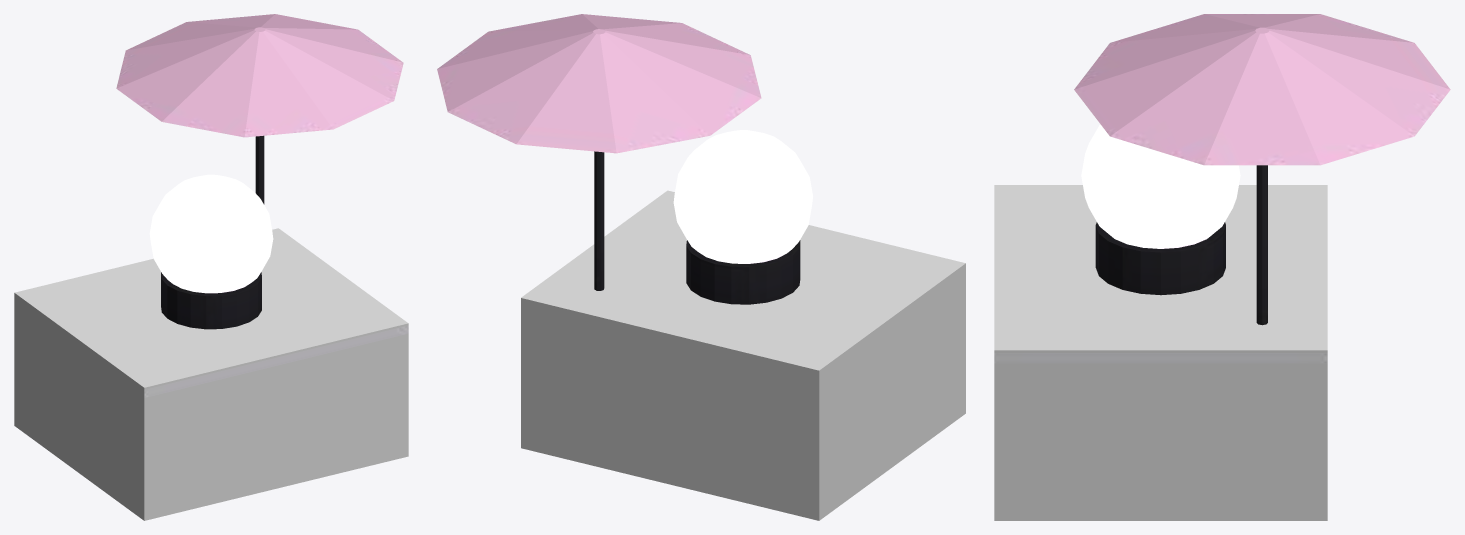
File: cotton_candy_cart.glb
The picture shows the model from 3 angles, left to right: view 1: azimuth 30°, elevation 25°; view 2: azimuth 150°, elevation 25°; view 3: azimuth 270°, elevation 25°; orthographic projection. The views are drawn at different scales.
Parts seen in each view (by area): view 1: COL_Body, CottonCandyCart; view 2: COL_Body, CottonCandyCart; view 3: COL_Body, CottonCandyCart.
Boxes of the visible parts, <box> form: COL_Body: <box>14,228,408,520</box>; CottonCandyCart: <box>116,14,408,397</box>; COL_Body: <box>521,190,965,520</box>; CottonCandyCart: <box>437,14,812,304</box>; COL_Body: <box>994,185,1327,520</box>; CottonCandyCart: <box>994,14,1450,363</box>.
Bounding box in the file's own units: 3.49 × 3.53 × 3.15.
5 materials, 5 textured.
